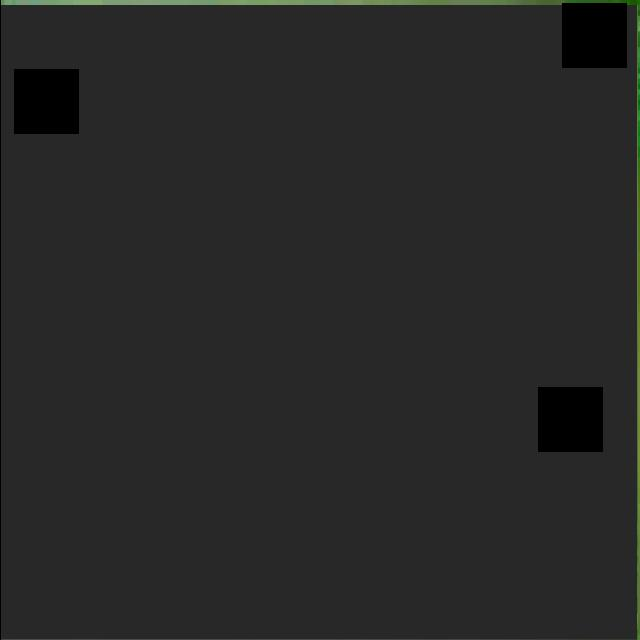nofire: (0, 5, 637, 640)
